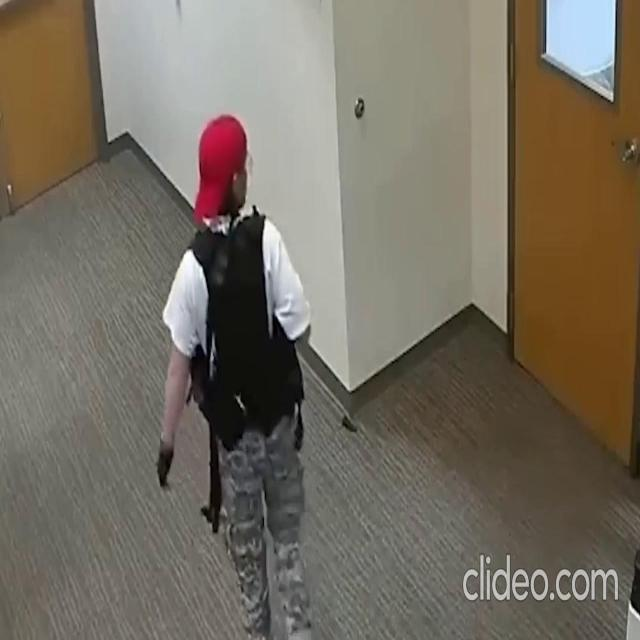pistol: (200, 342, 224, 539)
